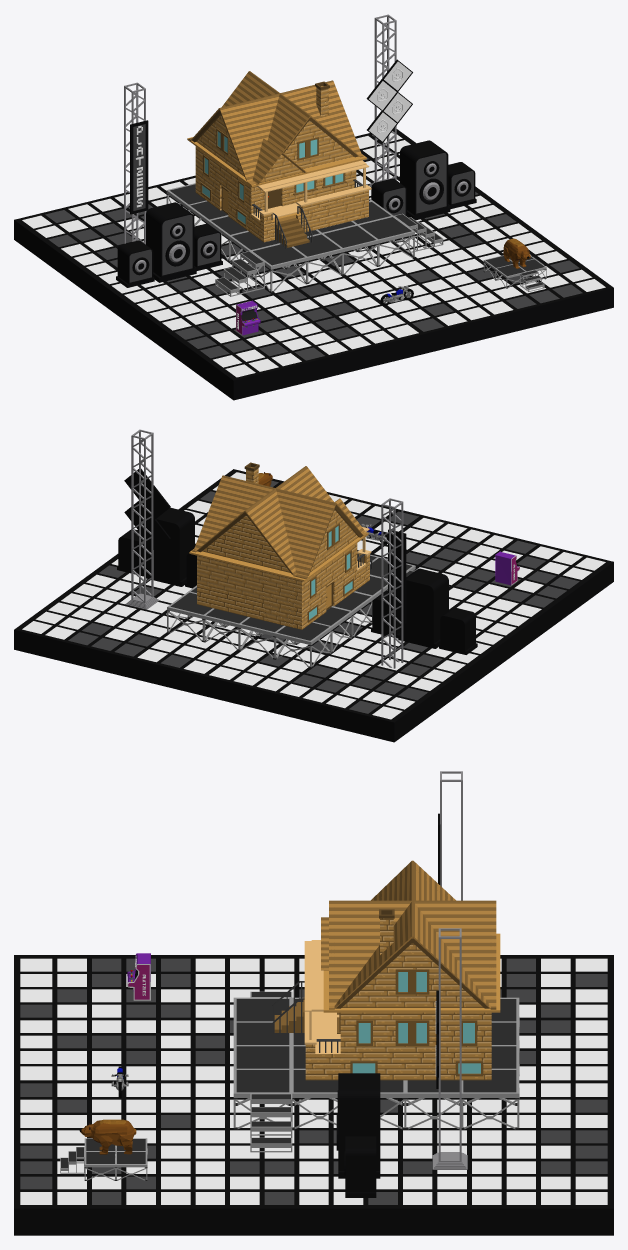
3 views of the same model, one above another, from view 1: azimuth 30°, elevation 25°; view 2: azimuth 150°, elevation 25°; view 3: azimuth 270°, elevation 25° (orthographic). The views are drawn at different scales.
Parts seen in each view (by area): view 1: Cube.008, Cube.508, OBJRANDOM_ARCADE, ANIMAL_OSO; view 2: Cube.008, Cube.508, OBJRANDOM_ARCADE; view 3: Cube.008, Cube.508, ANIMAL_OSO, OBJRANDOM_ARCADE.
Part boxes in pixels (left/top/right/bottom): Cube.008: left=14, top=14, right=613, bottom=400; Cube.508: left=187, top=71, right=371, bottom=248; OBJRANDOM_ARCADE: left=236, top=300, right=260, bottom=335; ANIMAL_OSO: left=503, top=238, right=530, bottom=268; Cube.008: left=14, top=429, right=613, bottom=742; Cube.508: left=189, top=462, right=372, bottom=629; OBJRANDOM_ARCADE: left=495, top=551, right=519, bottom=585; Cube.008: left=14, top=771, right=613, bottom=1235; Cube.508: left=272, top=860, right=500, bottom=1080; ANIMAL_OSO: left=79, top=1119, right=136, bottom=1154; OBJRANDOM_ARCADE: left=127, top=953, right=150, bottom=1000.
Size of the model in its own units: 4000 by 1975 by 4000.
40 materials, 2 textured.
